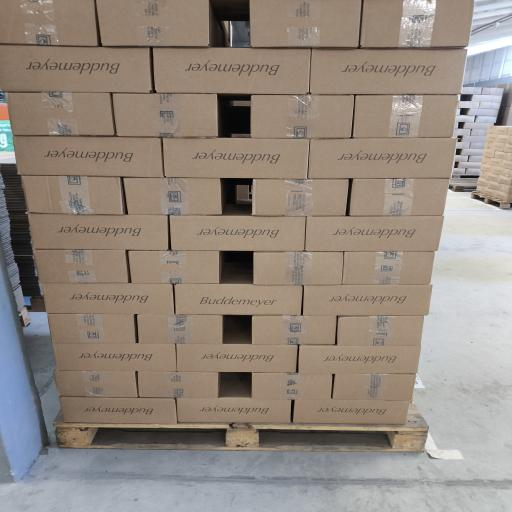pallet: (54, 404, 428, 452), (472, 193, 511, 209), (448, 178, 478, 192), (449, 184, 476, 191)
